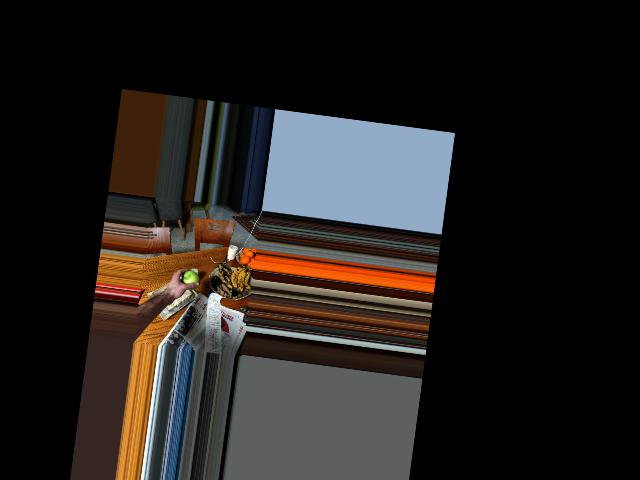apple: (179, 269, 200, 290)
